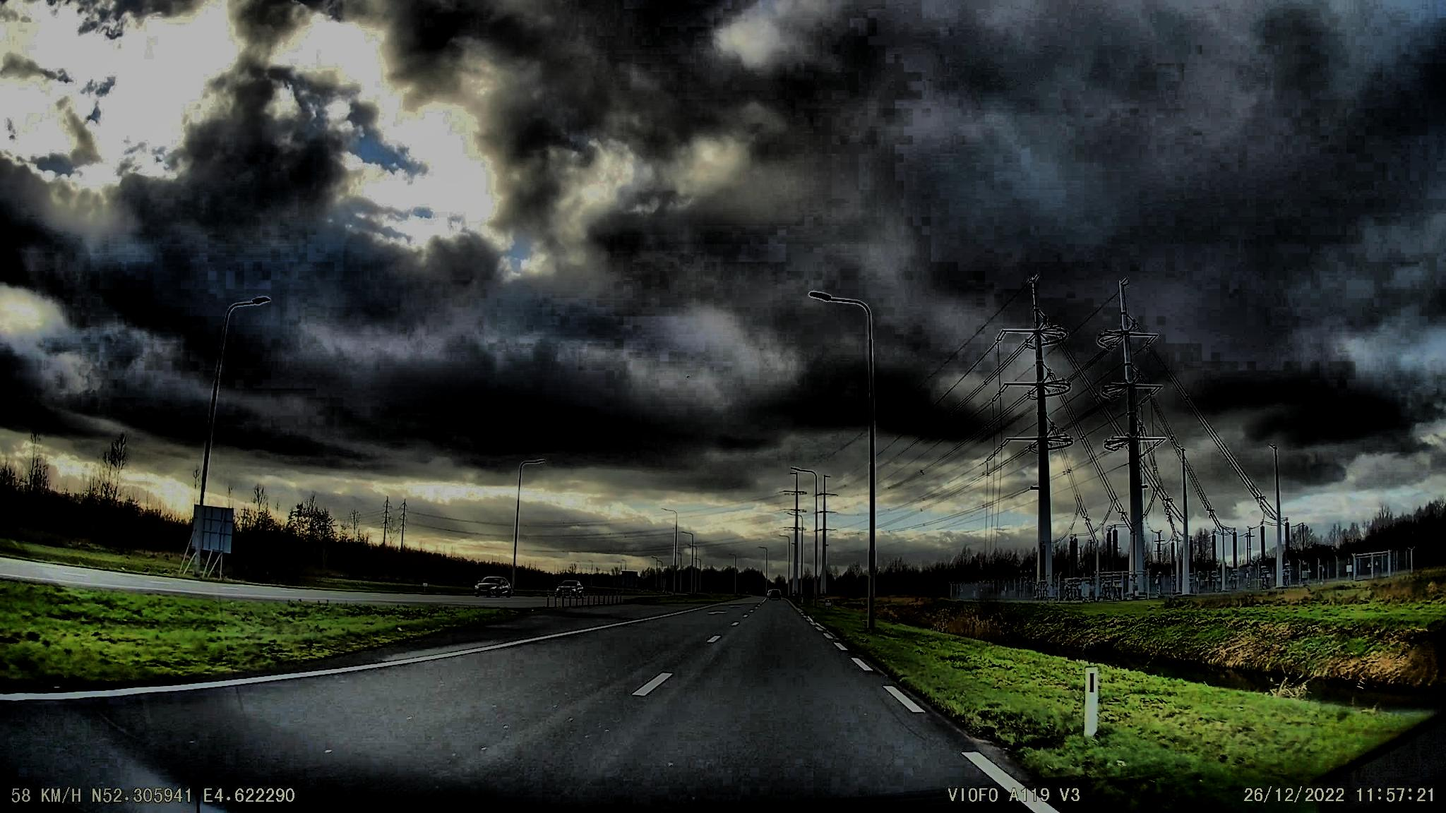Roads: (0, 600, 1104, 813)
